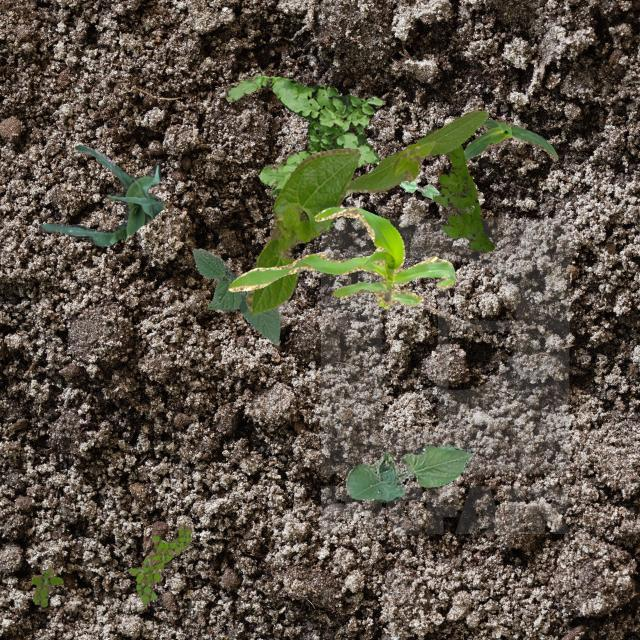crop: (226, 205, 454, 308), (244, 146, 360, 314), (38, 144, 162, 245), (344, 108, 486, 192), (192, 248, 280, 342), (344, 444, 474, 502), (462, 118, 556, 162), (398, 178, 440, 198)
weed: (224, 74, 382, 230), (426, 128, 494, 250), (126, 522, 190, 602), (30, 566, 61, 606)
